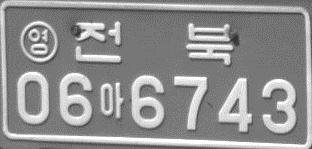0: (16, 70, 51, 127)
3: (261, 78, 297, 134)
4: (217, 77, 252, 133)
6: (57, 71, 92, 127), (130, 74, 165, 129)
7: (172, 75, 207, 131)
아: (99, 81, 124, 120)
영: (19, 20, 58, 63)
전북_D: (72, 20, 232, 65)
